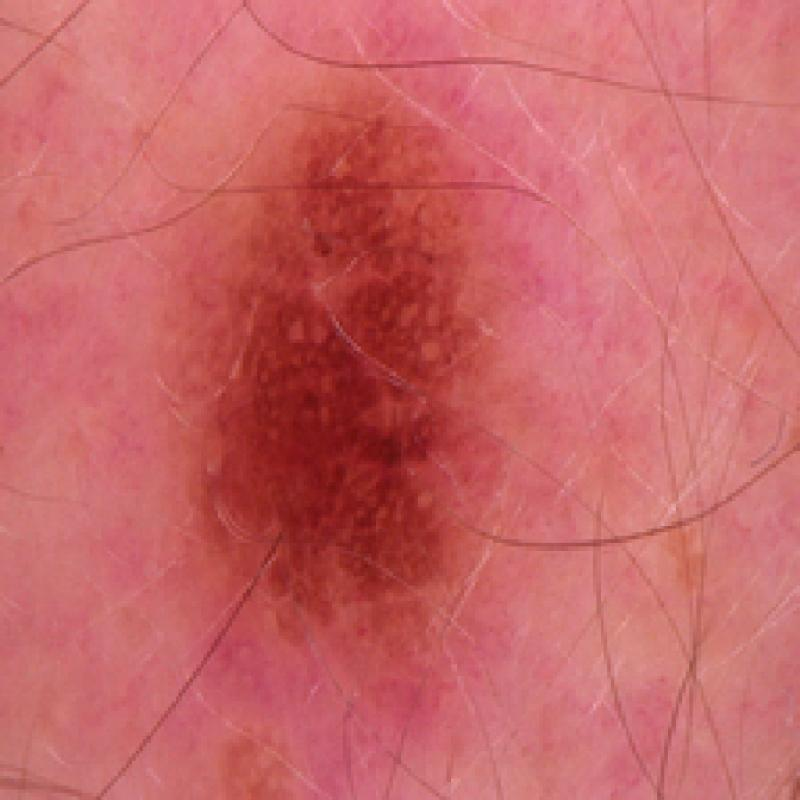benign: (168, 83, 540, 688)
